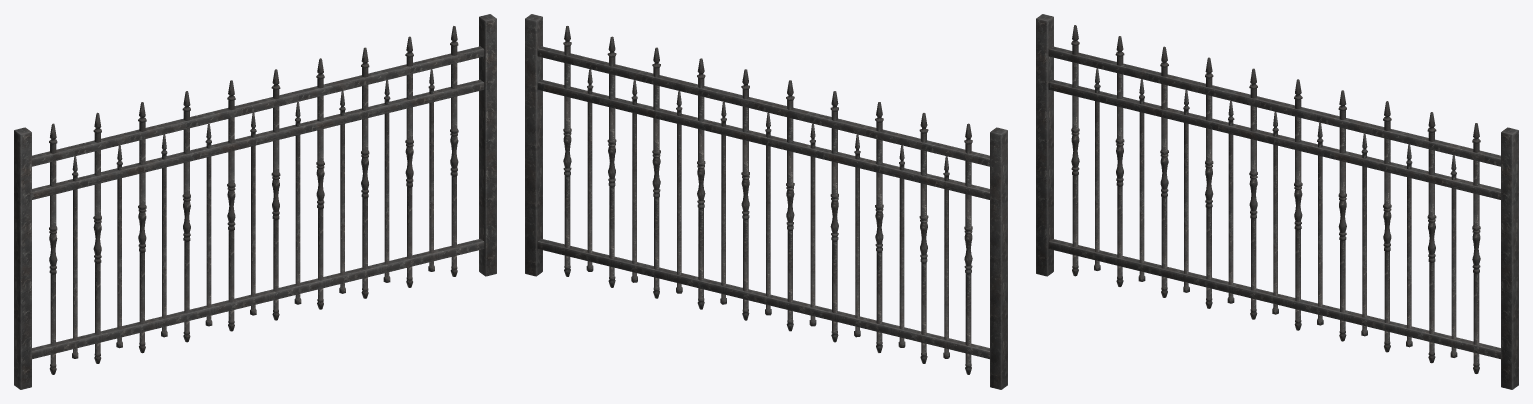
The model's file is Partition_B.fbx.
The picture shows the model from 3 angles, left to right: view 1: azimuth 30°, elevation 25°; view 2: azimuth 150°, elevation 25°; view 3: azimuth 330°, elevation 25°; orthographic projection.
Visible parts, largest first — view 1: Partition_B; view 2: Partition_B; view 3: Partition_B.
Part boxes in pixels (x1,y1,x2,y2): Partition_B: [14, 14, 496, 389]; Partition_B: [525, 14, 1007, 389]; Partition_B: [1036, 14, 1518, 389].
Size of the model in its own units: 7.59 by 3.89 by 0.1853.
